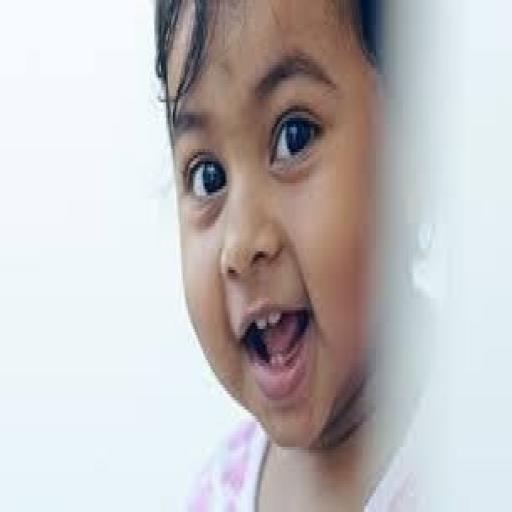laughing: (150, 3, 390, 453)
